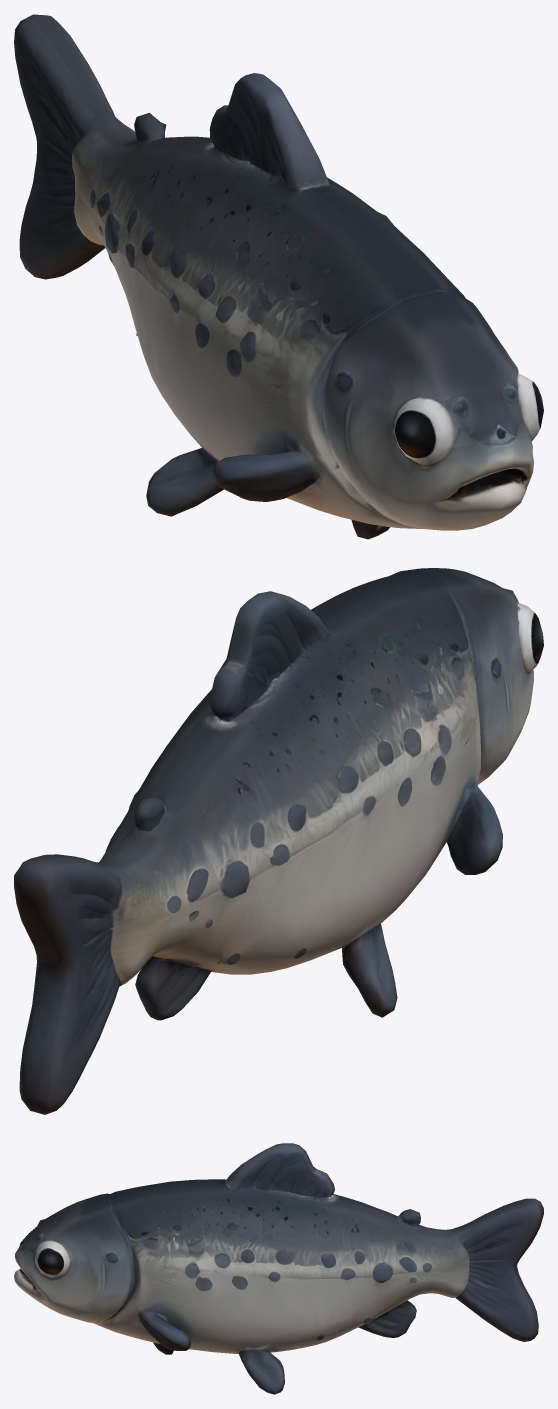
Rendered from nuchi.glb.
3 renders of one model, top to bottom at view 1: azimuth 30°, elevation 25°; view 2: azimuth 150°, elevation 25°; view 3: azimuth 270°, elevation 25°, orthographic. The views are drawn at different scales.
Parts seen in each view (by area): view 1: tripo_node_943e686f-626c-470b-8779-c04e7a7ba43c; view 2: tripo_node_943e686f-626c-470b-8779-c04e7a7ba43c; view 3: tripo_node_943e686f-626c-470b-8779-c04e7a7ba43c.
Boxes of the visible parts, <box> form: tripo_node_943e686f-626c-470b-8779-c04e7a7ba43c: <box>14,14,543,539</box>; tripo_node_943e686f-626c-470b-8779-c04e7a7ba43c: <box>14,568,543,1114</box>; tripo_node_943e686f-626c-470b-8779-c04e7a7ba43c: <box>14,1143,543,1394</box>.
Size of the model in its own units: 0.3358 by 0.4588 by 1.
1 material, 1 textured.
